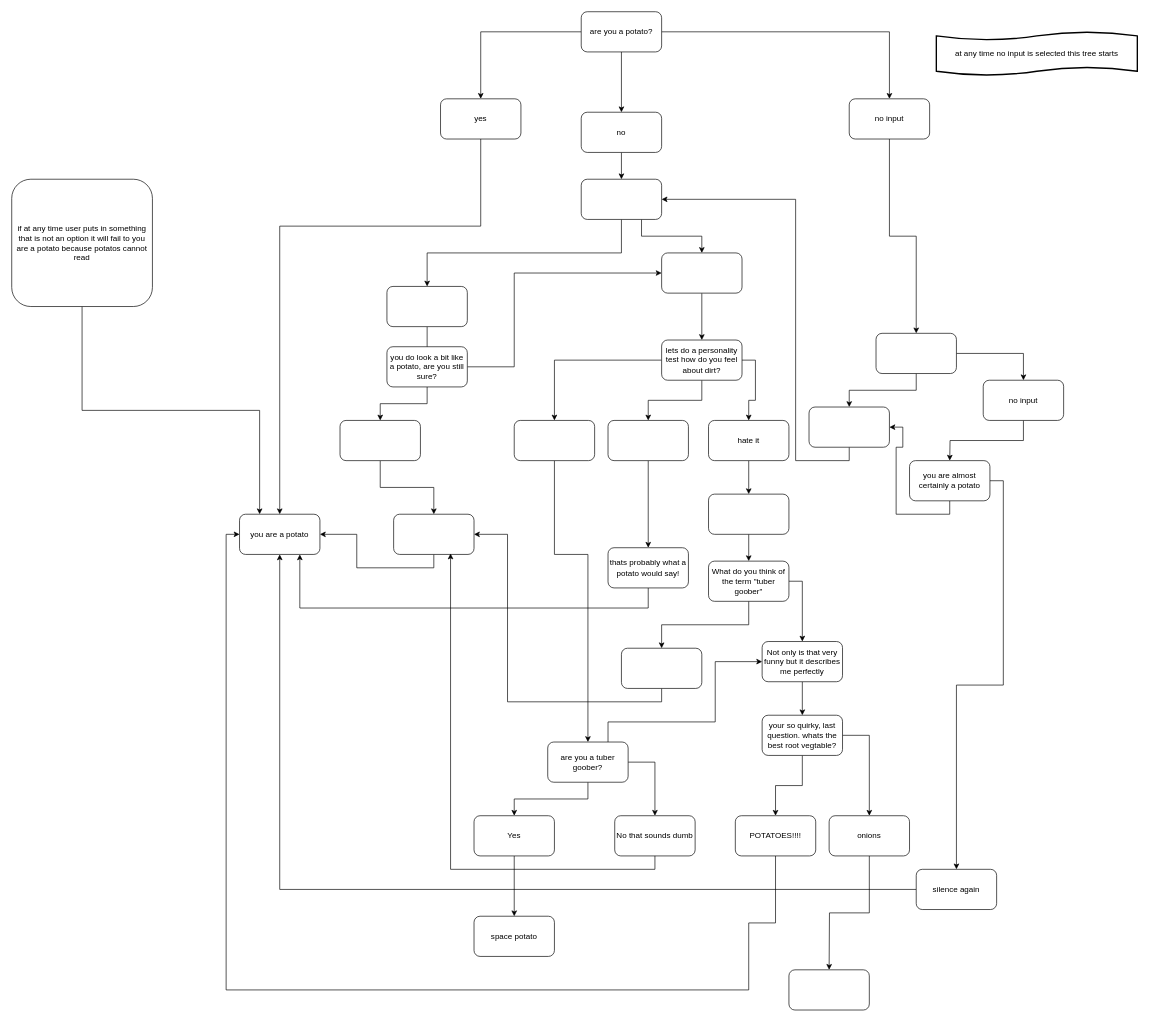
Image size: 1150x1022. Some labels were removed from this diagram. Here are the shapes that lost their labels. From the top down, the box of each, then its label:
(581, 179, 662, 219): are you sure?
(661, 252, 742, 293): No im not sure
(386, 286, 467, 327): im pretty sure im not a potato
(875, 333, 956, 374): Potatos cant talk, I think your a potato
(339, 420, 420, 461): IM NOT A POTATO!
(514, 420, 595, 461): what is dirt?
(607, 420, 688, 461): love it
(808, 406, 889, 447): nuh uh!
(708, 493, 789, 534): hmm, not conclusive, we'll need a few more questions
(393, 514, 474, 554): your acting like a bit of a tuber goober
(621, 648, 702, 688): thats not funny
(788, 969, 869, 1010): thats gross, I guess your not a potato though
